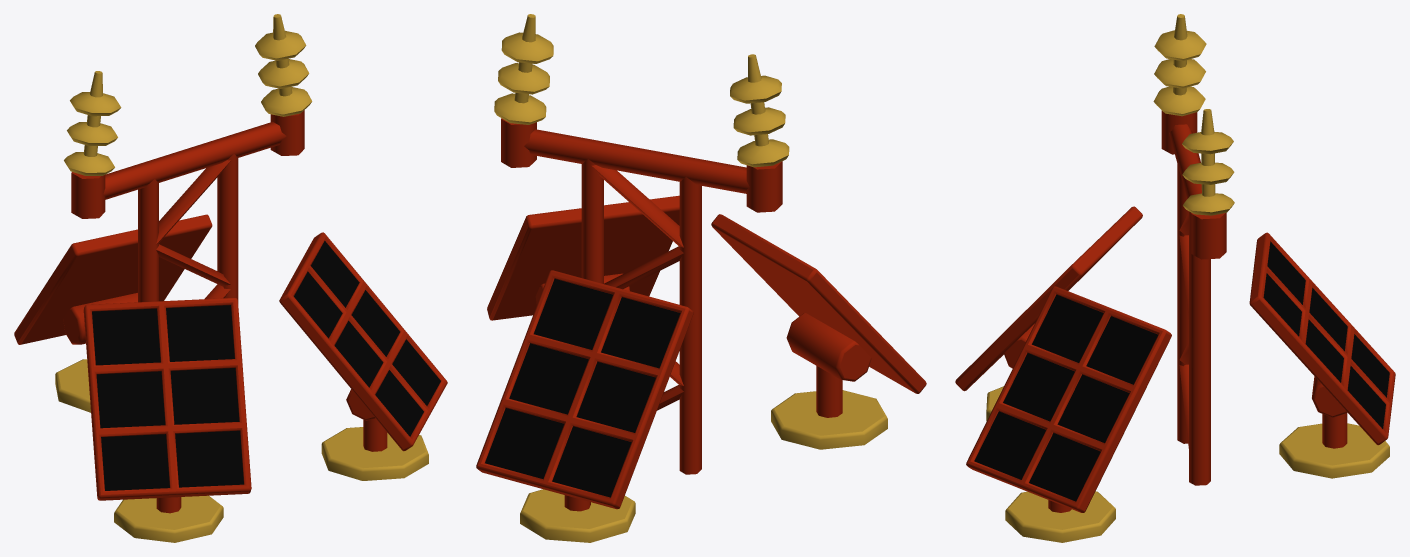
File: Battery Factory Top Fractured.fbx
The picture shows the model from 3 angles, left to right: view 1: azimuth 30°, elevation 25°; view 2: azimuth 150°, elevation 25°; view 3: azimuth 270°, elevation 25°; orthographic projection. The views are drawn at different scales.
Parts seen in each view (by area): view 1: Battery Factory Top Fracture.002, Battery Factory Top Fracture, Battery Factory Top Fracture.001, Battery Factory Top Fracture.003; view 2: Battery Factory Top Fracture.003, Battery Factory Top Fracture, Battery Factory Top Fracture.002, Battery Factory Top Fracture.001; view 3: Battery Factory Top Fracture.001, Battery Factory Top Fracture, Battery Factory Top Fracture.003, Battery Factory Top Fracture.002.
Part boxes in pixels (box(x1,y1,x2,y2)): Battery Factory Top Fracture.002: box(83, 298, 251, 542); Battery Factory Top Fracture: box(64, 14, 312, 303); Battery Factory Top Fracture.001: box(279, 232, 447, 480); Battery Factory Top Fracture.003: box(14, 214, 212, 412); Battery Factory Top Fracture.003: box(476, 270, 693, 542); Battery Factory Top Fracture: box(494, 14, 789, 474); Battery Factory Top Fracture.002: box(711, 214, 926, 449); Battery Factory Top Fracture.001: box(487, 195, 679, 320); Battery Factory Top Fracture.001: box(966, 286, 1171, 542); Battery Factory Top Fracture: box(1153, 14, 1234, 485); Battery Factory Top Fracture.003: box(1249, 232, 1395, 478); Battery Factory Top Fracture.002: box(955, 206, 1142, 421).
Bounding box in the file's own units: 482 × 482 × 483.
